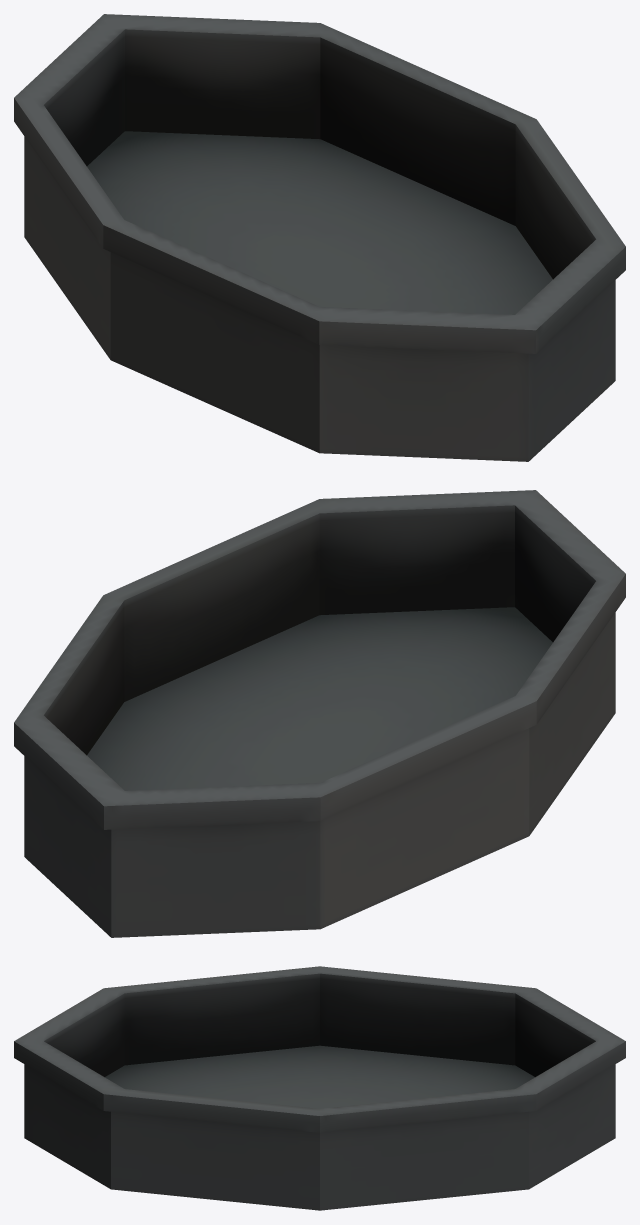
The model's file is tabak.fbx.
3 views of the same model, one above another, from view 1: azimuth 30°, elevation 25°; view 2: azimuth 150°, elevation 25°; view 3: azimuth 270°, elevation 25° (orthographic). The views are drawn at different scales.
Parts seen in each view (by area): view 1: Circle.006; view 2: Circle.006; view 3: Circle.006.
Part boxes in pixels (x1,y1,x2,y2): Circle.006: (14,14,625,461); Circle.006: (14,490,625,937); Circle.006: (14,966,625,1210).
Bounding box in the file's own units: 142 × 42.84 × 245.
